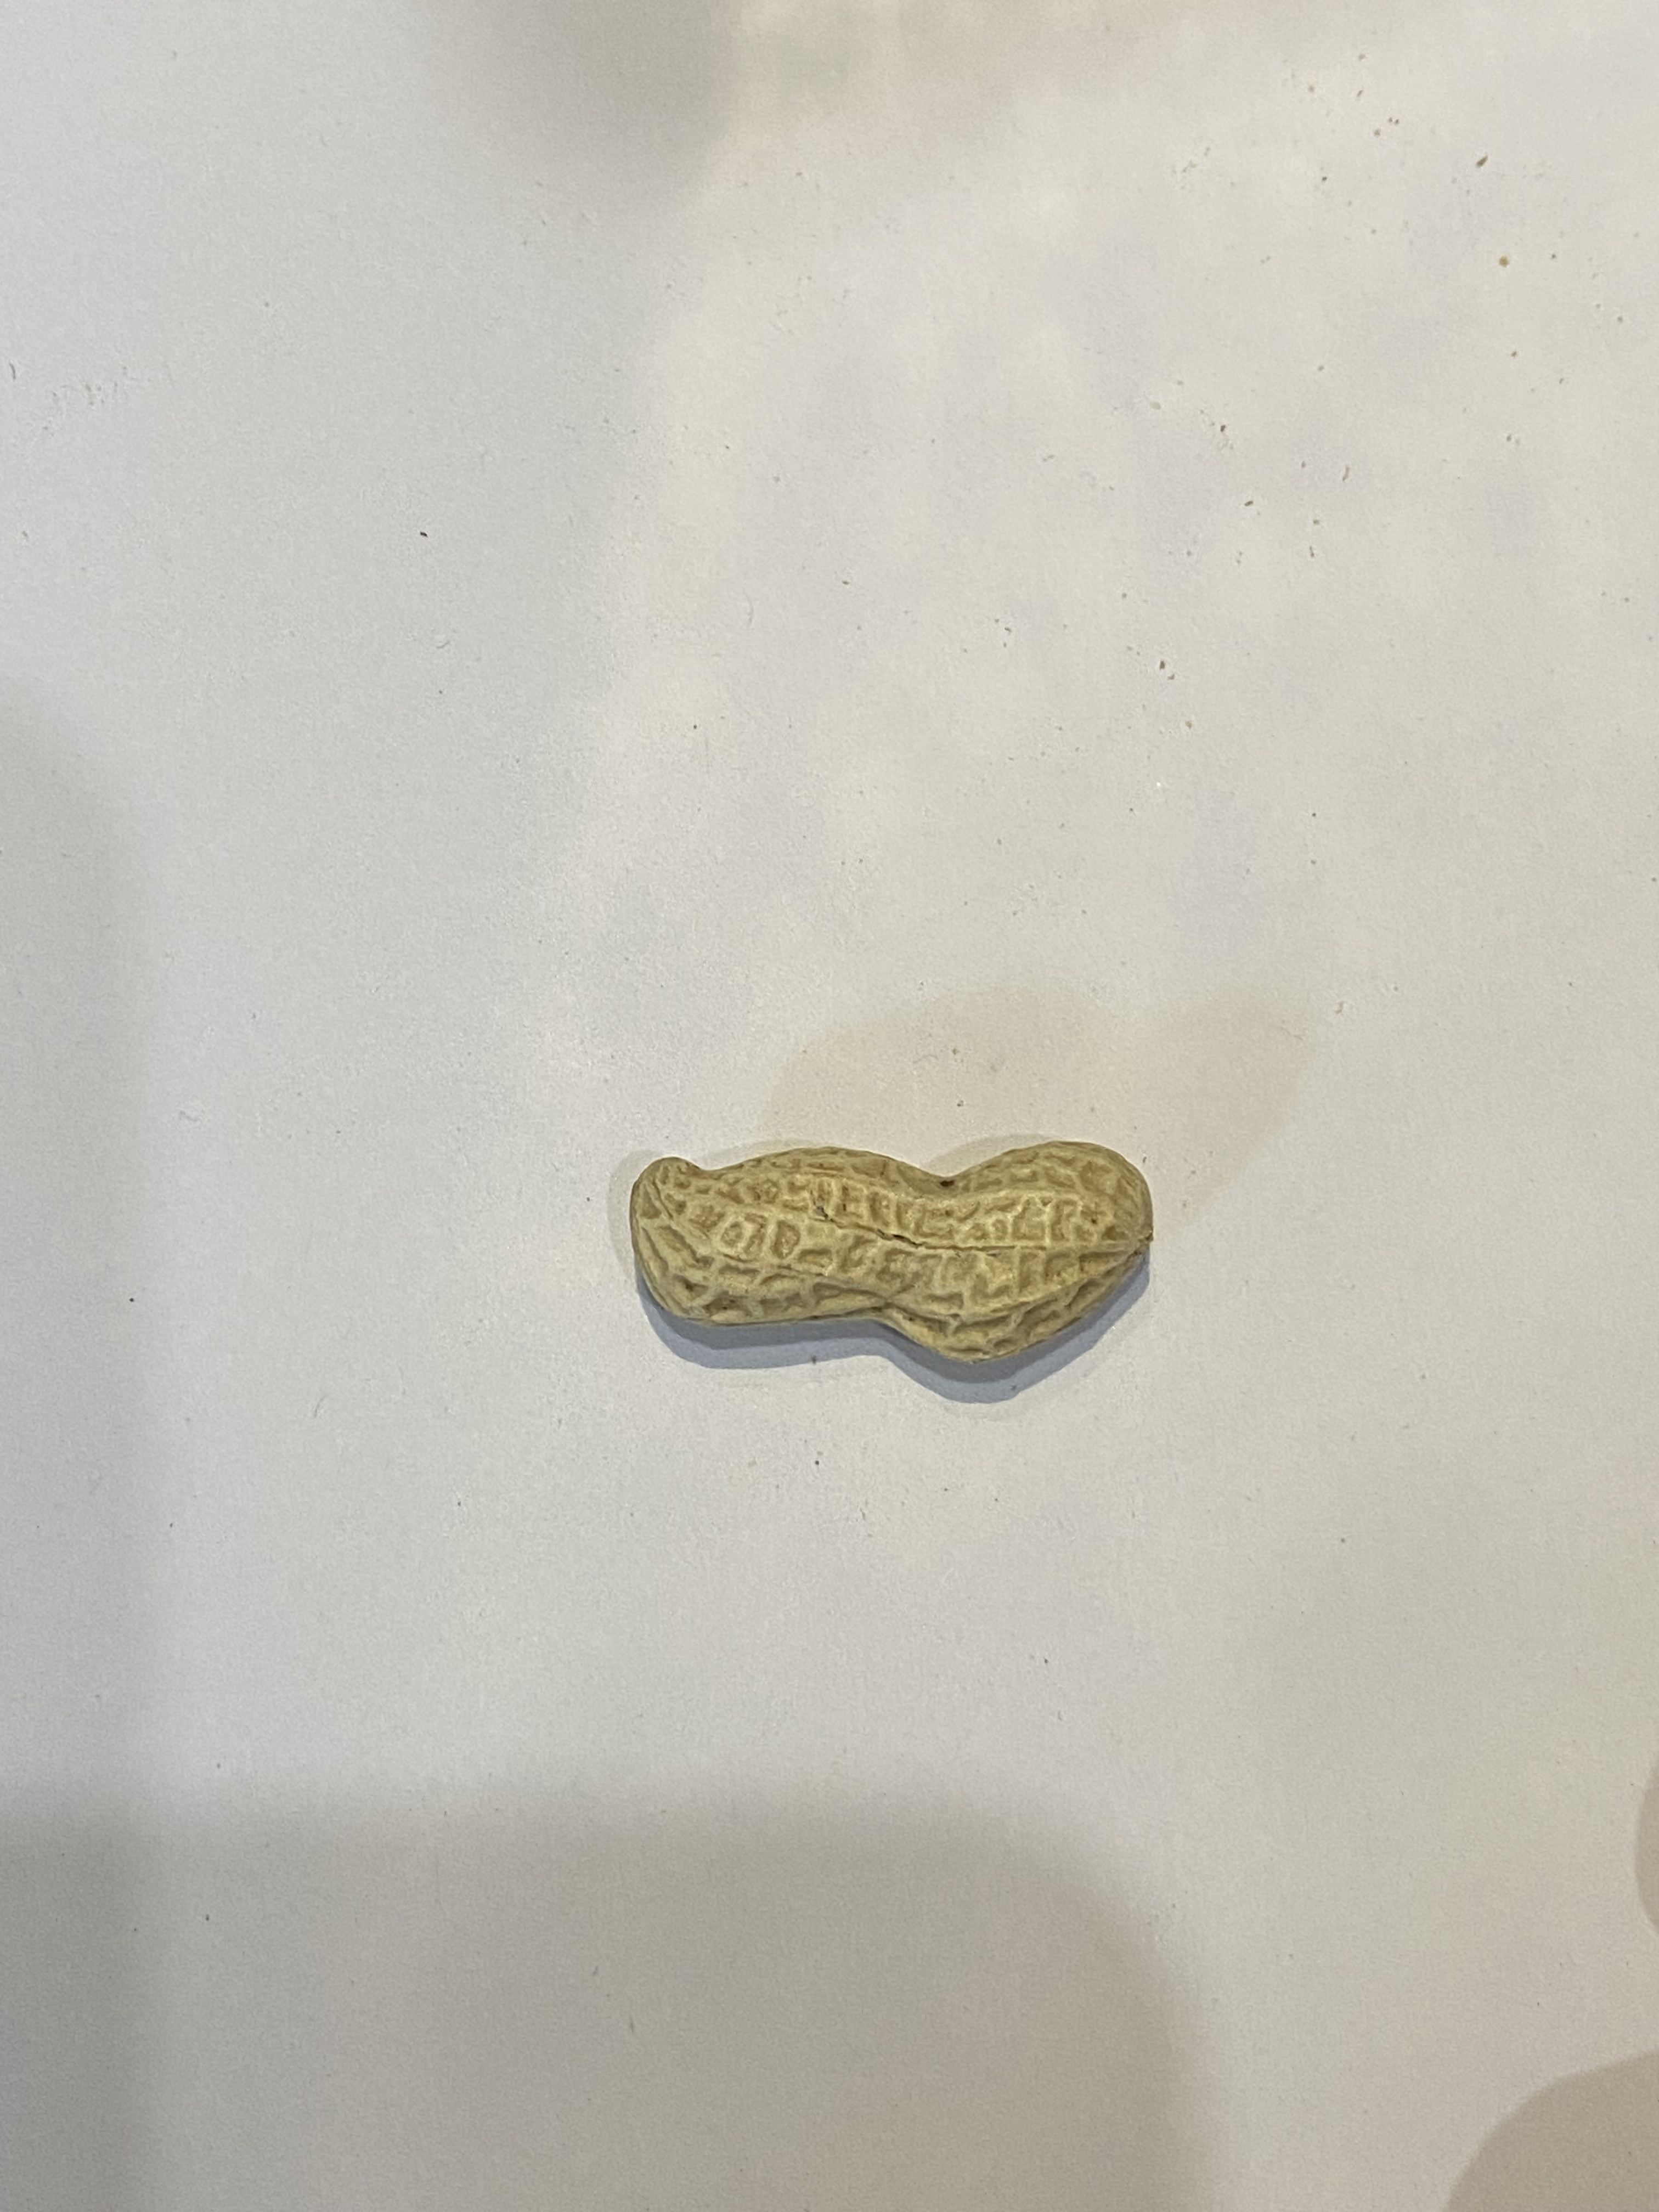kacang2: (613, 1130, 1171, 1374)
